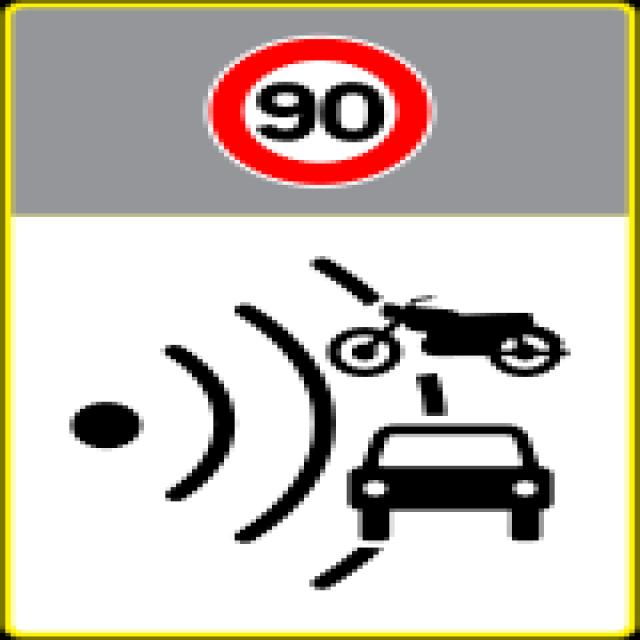radar: (0, 0, 640, 640)
speed_90: (210, 32, 437, 188)
